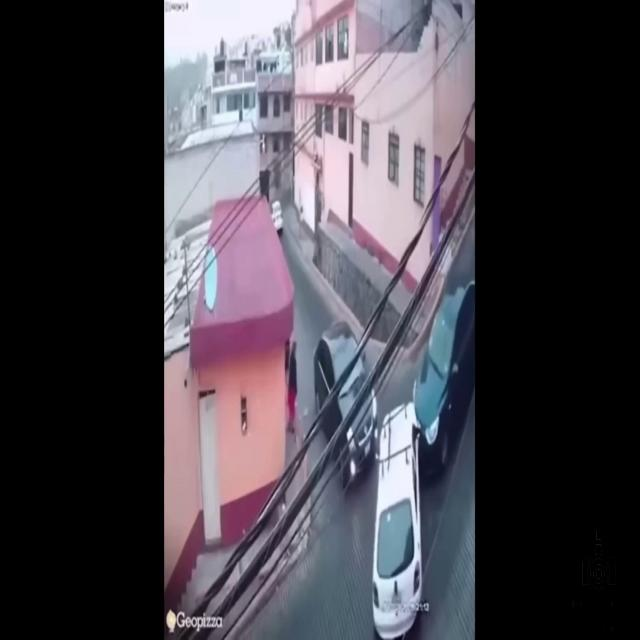accident: (378, 310, 463, 604)
